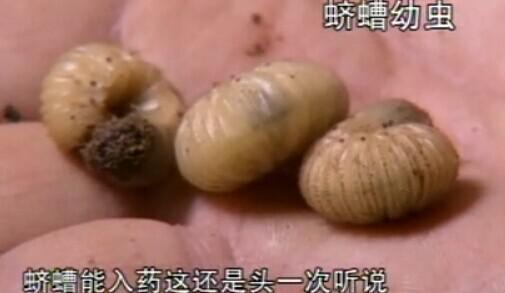grub: (297, 103, 467, 225)
